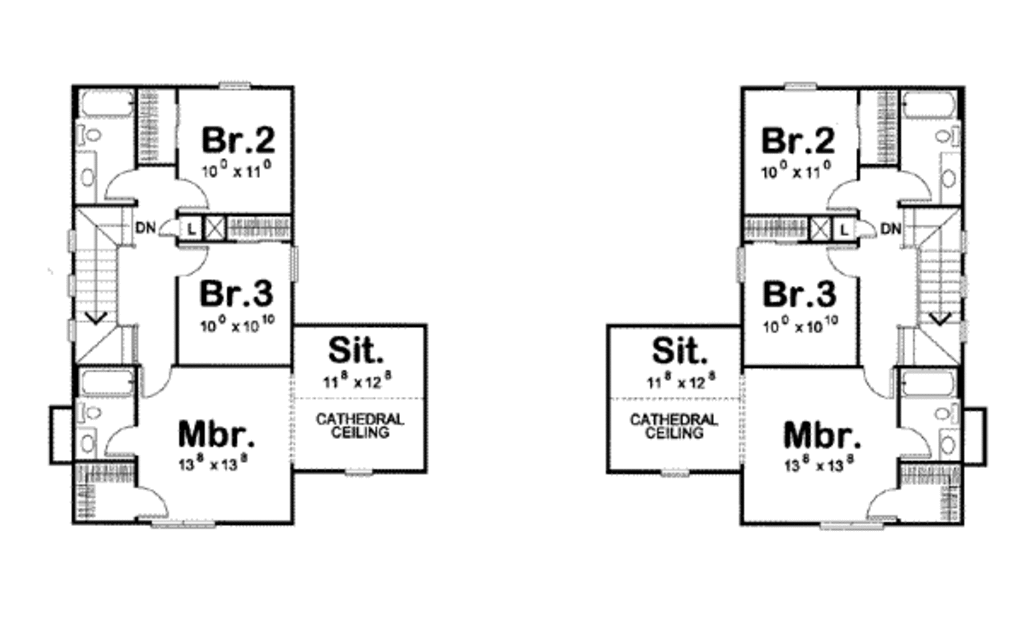door: (856, 355, 903, 407), (853, 478, 902, 523), (893, 422, 937, 460), (824, 173, 862, 217), (825, 241, 860, 285), (129, 482, 169, 520), (176, 176, 216, 212), (897, 167, 937, 203), (176, 244, 214, 280), (105, 164, 143, 199), (134, 362, 170, 396), (103, 423, 139, 456), (853, 216, 881, 243)
large_sink: (72, 392, 109, 426), (71, 116, 105, 148), (931, 120, 961, 151), (933, 395, 963, 422)
small_sink: (938, 151, 965, 205), (75, 147, 95, 201), (72, 423, 100, 460), (938, 420, 962, 460)
stairs: (72, 205, 137, 364), (901, 205, 959, 362)
tub: (901, 88, 962, 120), (74, 84, 136, 115), (903, 362, 957, 397), (77, 366, 139, 394)
window: (146, 514, 218, 532), (822, 518, 887, 534), (217, 78, 264, 97), (780, 77, 818, 94), (734, 244, 750, 284), (63, 229, 82, 258), (659, 464, 689, 481), (288, 241, 299, 279), (340, 465, 375, 476)
